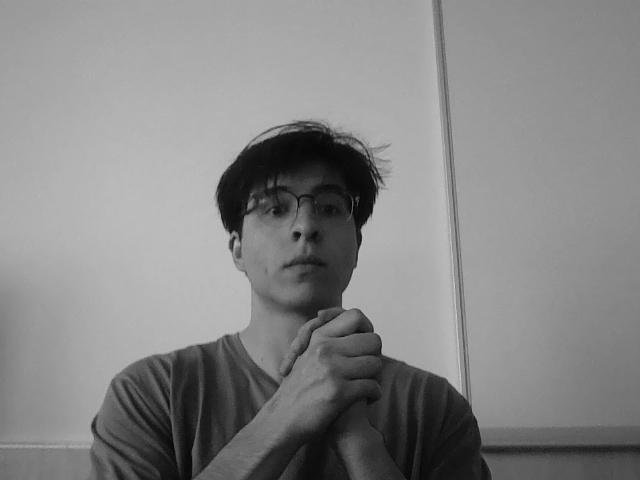friend: (260, 298, 420, 448)
